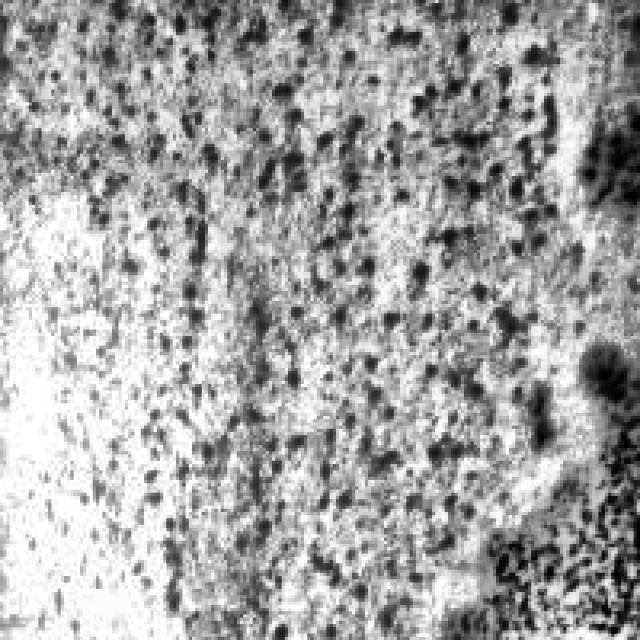Rolled_in_Scale: (6, 0, 634, 637)
